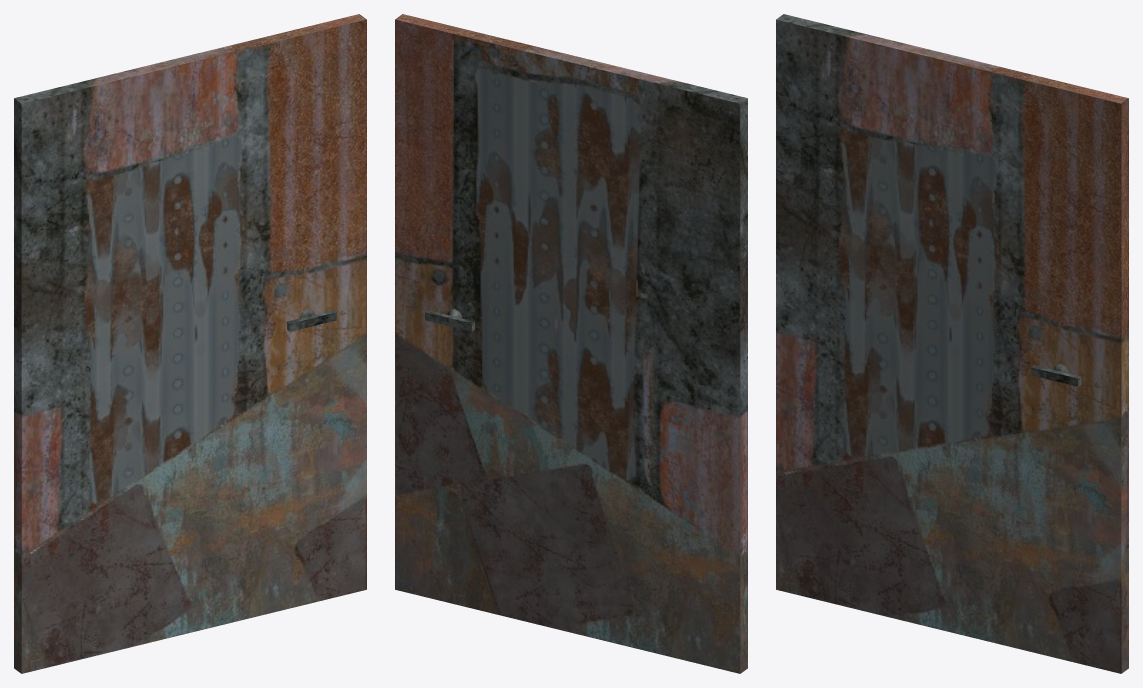
The model's file is metal_door_textured.glb.
The picture shows the model from 3 angles, left to right: view 1: azimuth 30°, elevation 25°; view 2: azimuth 150°, elevation 25°; view 3: azimuth 330°, elevation 25°; orthographic projection.
Visible parts, largest first — view 1: Cube; view 2: Cube; view 3: Cube.
Part boxes in pixels (x1,y1,x2,y2): Cube: [14, 14, 366, 673]; Cube: [395, 14, 747, 673]; Cube: [776, 14, 1128, 673].
Size of the model in its own units: 0.9188 by 1.45 by 0.0948.
1 material, 1 textured.
